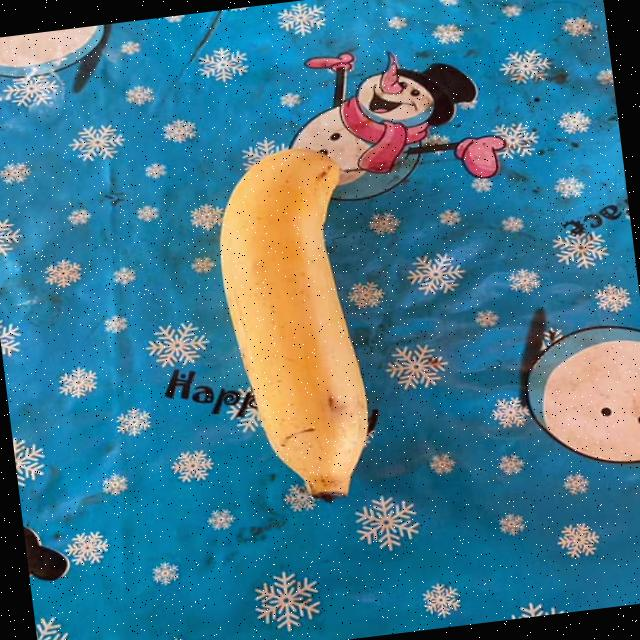Ripe: (172, 118, 444, 536)
